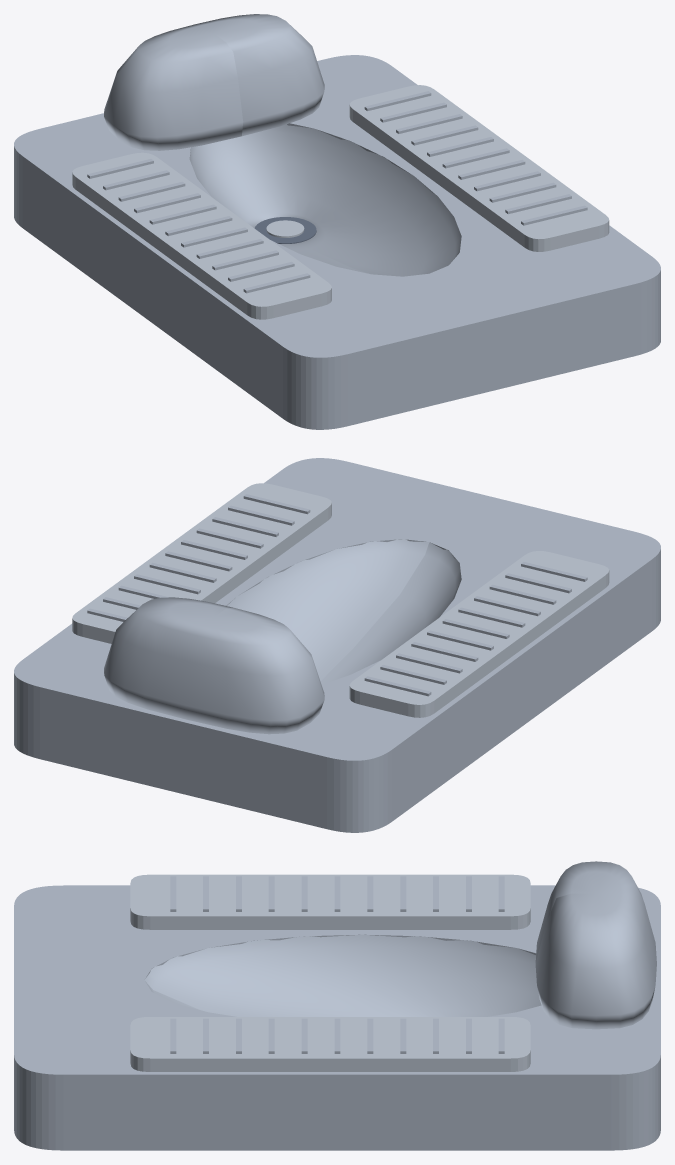
Rendered from 蹲便-lite.glb.
The picture shows the model from 3 angles, top to bottom: view 1: azimuth 30°, elevation 25°; view 2: azimuth 150°, elevation 25°; view 3: azimuth 270°, elevation 25°; orthographic projection. The views are drawn at different scales.
Parts seen in each view (by area): view 1: squattoilet; view 2: squattoilet; view 3: squattoilet.
Boxes of the visible parts, x1,y1,x2,y2 form: squattoilet: (14,14,660,429); squattoilet: (14,458,660,832); squattoilet: (14,861,660,1150).
Size of the model in its own units: 0.45 by 0.18 by 0.65.
